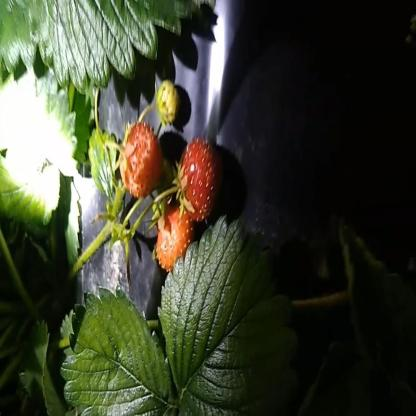ripe: (180, 134, 222, 221), (118, 119, 160, 197), (154, 212, 195, 270)
unripe: (152, 77, 182, 122)
